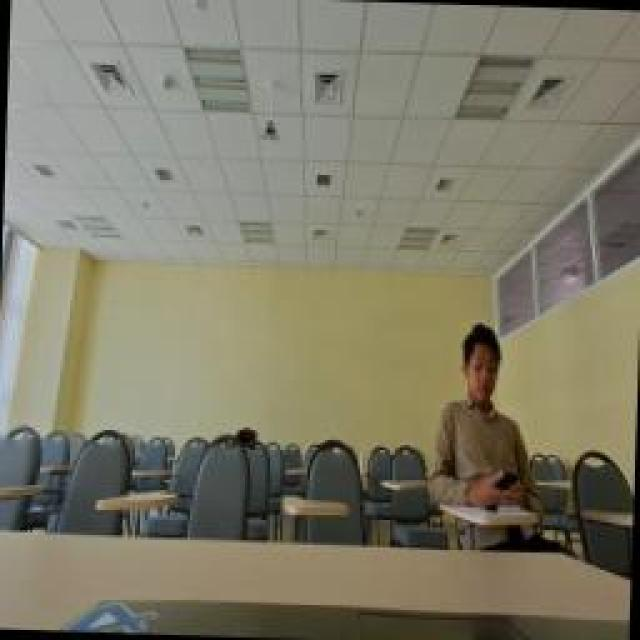phone: (430, 322, 548, 520)
